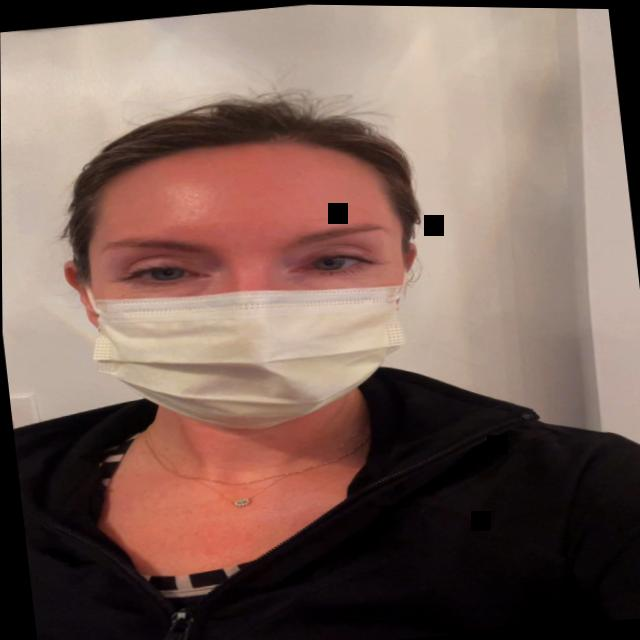Mask: (21, 89, 467, 467)
